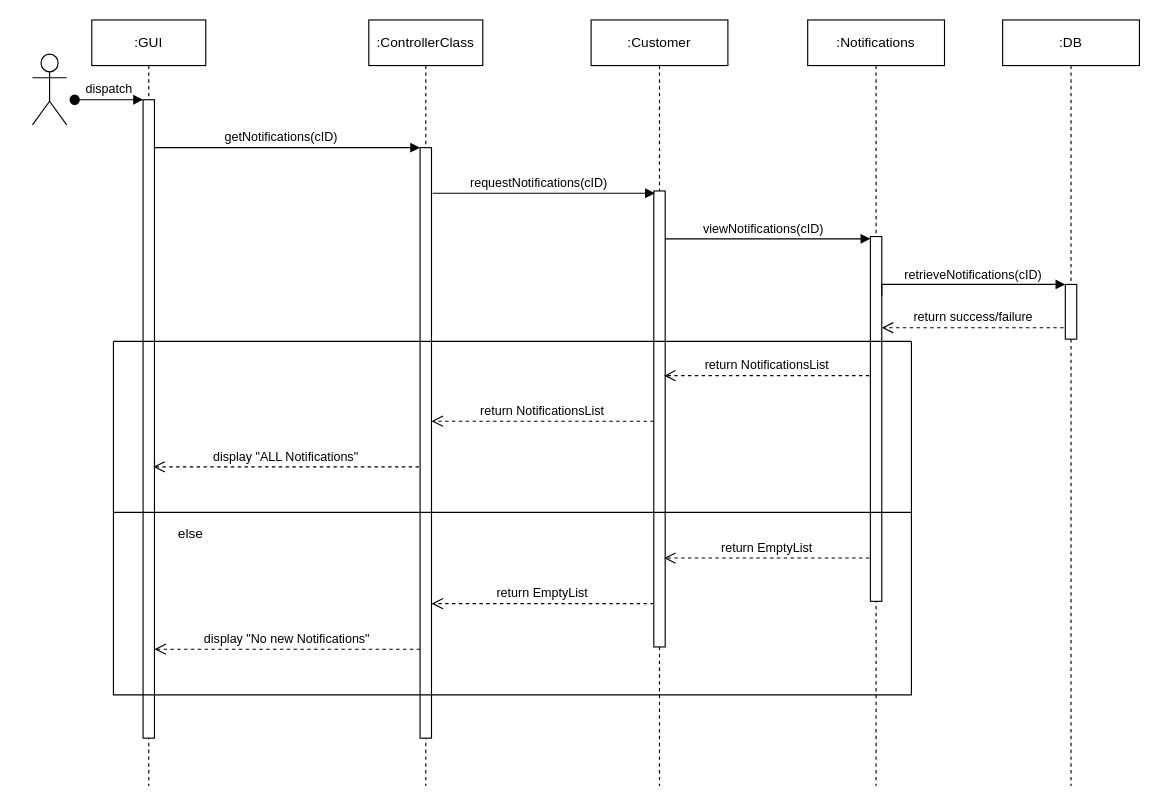
Image size: 1159x806. Some labels were removed from this diagram. Each missing label, with the centre of its shape:
"Customer" belongs at (x=49, y=89).
"If success" belongs at (x=511, y=517).
